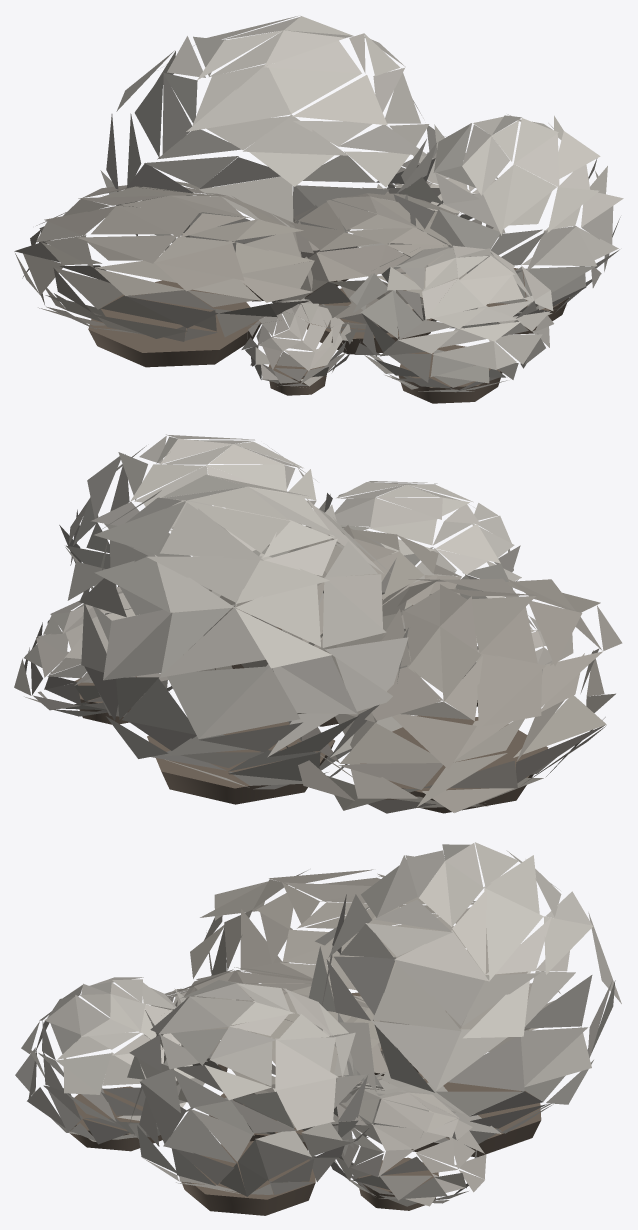
Rendered from south_indian_village_river_rocks_cluster.glb.
3 views of the same model, one above another, from view 1: azimuth 30°, elevation 25°; view 2: azimuth 150°, elevation 25°; view 3: azimuth 270°, elevation 25° (orthographic). The views are drawn at different scales.
Visible parts, largest first — view 1: River_Rock_1_Anchor_Boulder, River_Rock_2_Dhobi_Slab, River_Rock_3_Flanking_Stone, River_Rock_5_Shore_Cobble, River_Rock_4_Saturated_Stone, River_Rock_7_Fluvial_Pebble, River_Rock_6_Stream_Cobble; view 2: River_Rock_1_Anchor_Boulder, River_Rock_2_Dhobi_Slab, River_Rock_3_Flanking_Stone, River_Rock_5_Shore_Cobble, River_Rock_6_Stream_Cobble, River_Rock_4_Saturated_Stone, River_Rock_7_Fluvial_Pebble; view 3: River_Rock_1_Anchor_Boulder, River_Rock_3_Flanking_Stone, River_Rock_5_Shore_Cobble, River_Rock_2_Dhobi_Slab, River_Rock_6_Stream_Cobble, River_Rock_4_Saturated_Stone.
Boxes of the visible parts, x1,y1,x2,y2 form: River_Rock_1_Anchor_Boulder: (100, 16, 444, 301); River_Rock_2_Dhobi_Slab: (14, 181, 319, 367); River_Rock_3_Flanking_Stone: (387, 114, 623, 334); River_Rock_5_Shore_Cobble: (345, 245, 553, 403); River_Rock_4_Saturated_Stone: (272, 187, 466, 354); River_Rock_7_Fluvial_Pebble: (241, 297, 352, 395); River_Rock_6_Stream_Cobble: (387, 151, 505, 237); River_Rock_1_Anchor_Boulder: (67, 474, 408, 804); River_Rock_2_Dhobi_Slab: (286, 578, 622, 813); River_Rock_3_Flanking_Stone: (59, 434, 336, 669); River_Rock_5_Shore_Cobble: (306, 481, 521, 631); River_Rock_6_Stream_Cobble: (14, 586, 202, 724); River_Rock_4_Saturated_Stone: (197, 525, 461, 726); River_Rock_7_Fluvial_Pebble: (464, 615, 552, 706); River_Rock_1_Anchor_Boulder: (309, 842, 621, 1157); River_Rock_3_Flanking_Stone: (127, 980, 375, 1215); River_Rock_5_Shore_Cobble: (15, 977, 218, 1151); River_Rock_2_Dhobi_Slab: (190, 869, 560, 1075); River_Rock_6_Stream_Cobble: (330, 1071, 486, 1210); River_Rock_4_Saturated_Stone: (160, 967, 424, 1150).
Bounding box in the file's own units: 1.81 × 0.8206 × 1.72.
